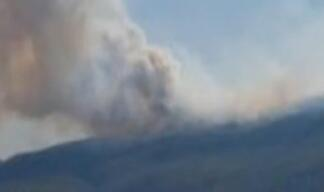yanwu: (0, 0, 262, 133)
